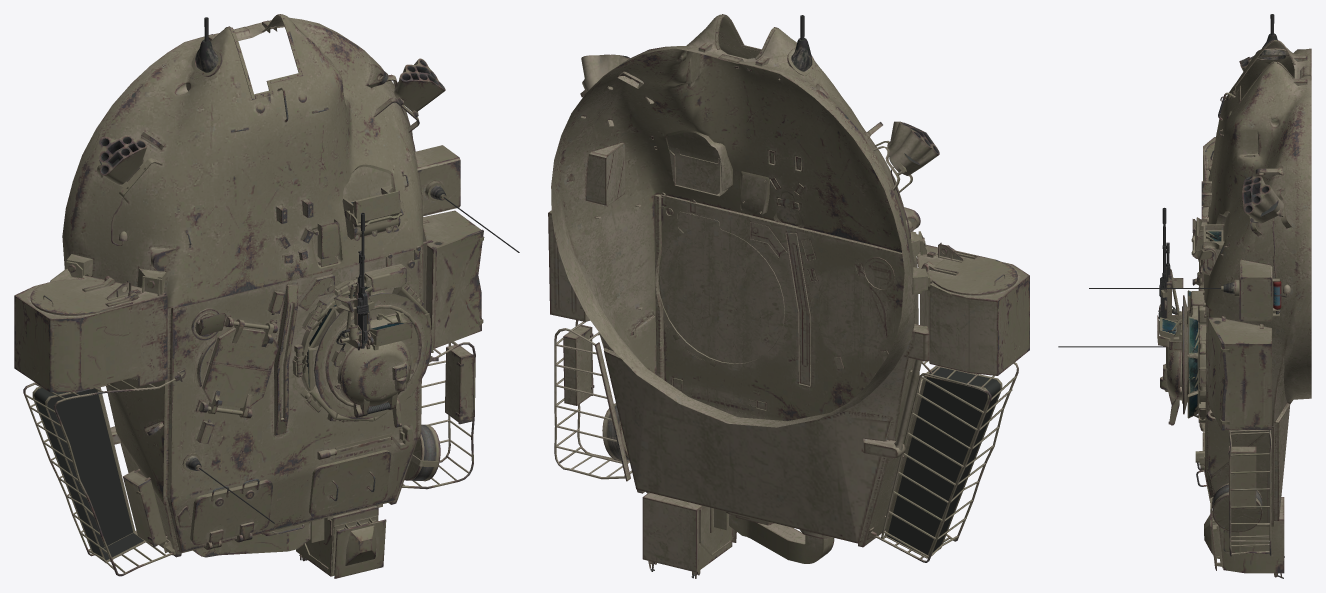
Rendered from Turret_01.glb.
3 renders of one model, left to right at view 1: azimuth 30°, elevation 25°; view 2: azimuth 150°, elevation 25°; view 3: azimuth 270°, elevation 25°, orthographic. The views are drawn at different scales.
Parts seen in each view (by area): view 1: set_0_group_0; view 2: set_0_group_0; view 3: set_0_group_0.
Part boxes in pixels (x1,y1,x2,y2): set_0_group_0: (14,14,519,578); set_0_group_0: (548,14,1029,578); set_0_group_0: (1058,14,1311,578).
Size of the model in its own units: 3.54 by 4.38 by 1.99.
1 material, 1 textured.
